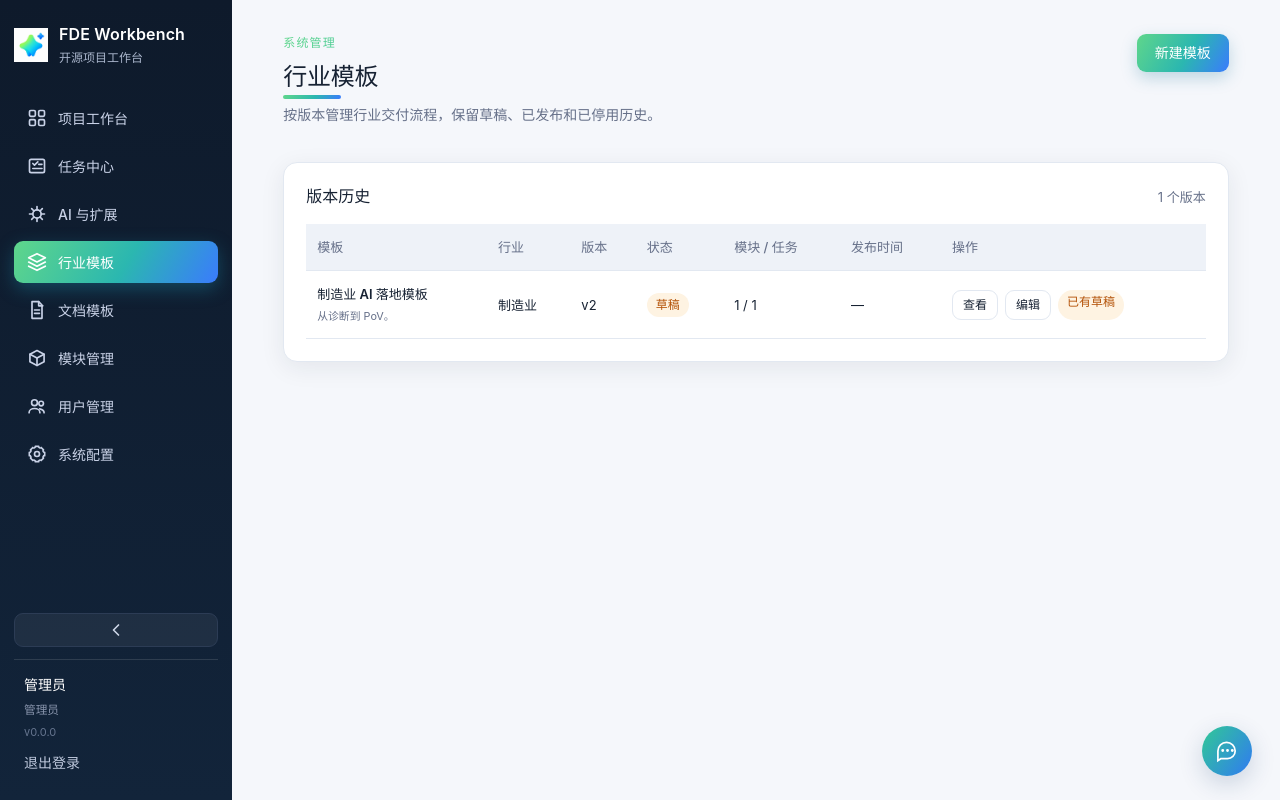
Test: 行业模板版本管理 › 发布失败时在发布操作旁显示服务校验并保留草稿
Click the button with aria-label "编辑 v2": click(1028, 305) [1005, 290, 1051, 320]
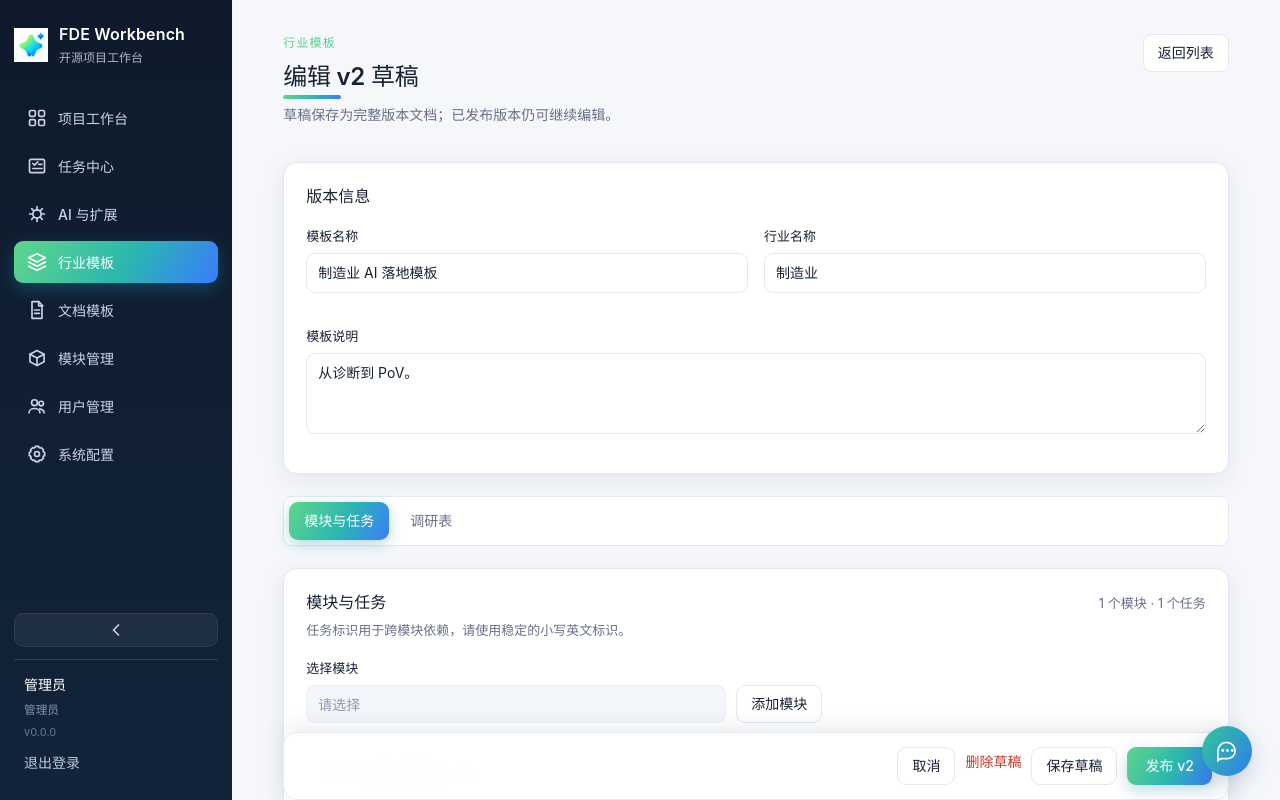
Replace the text in the text box labelled "模板说明" with "发布前的本地草稿": (756, 394) [306, 353, 1206, 434]
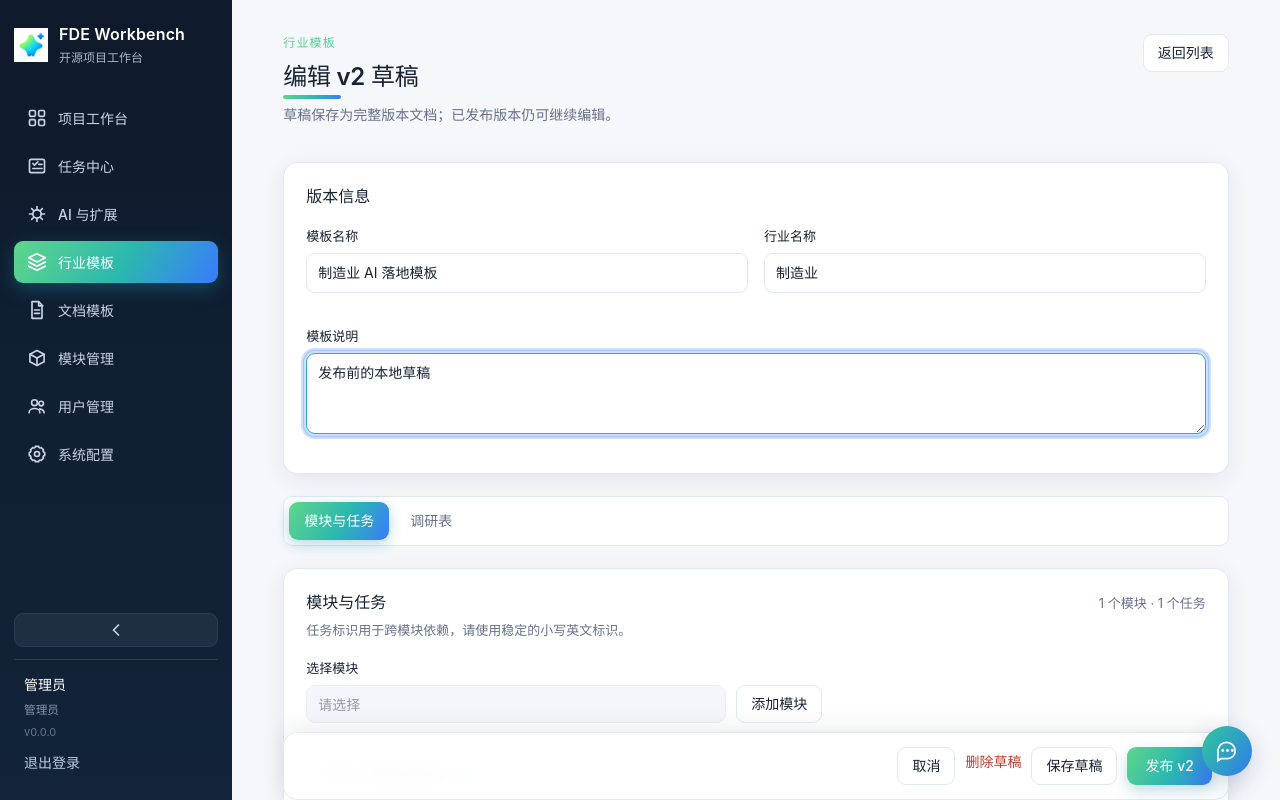
Click the button "发布 v2": click(1170, 766) [1127, 747, 1212, 785]
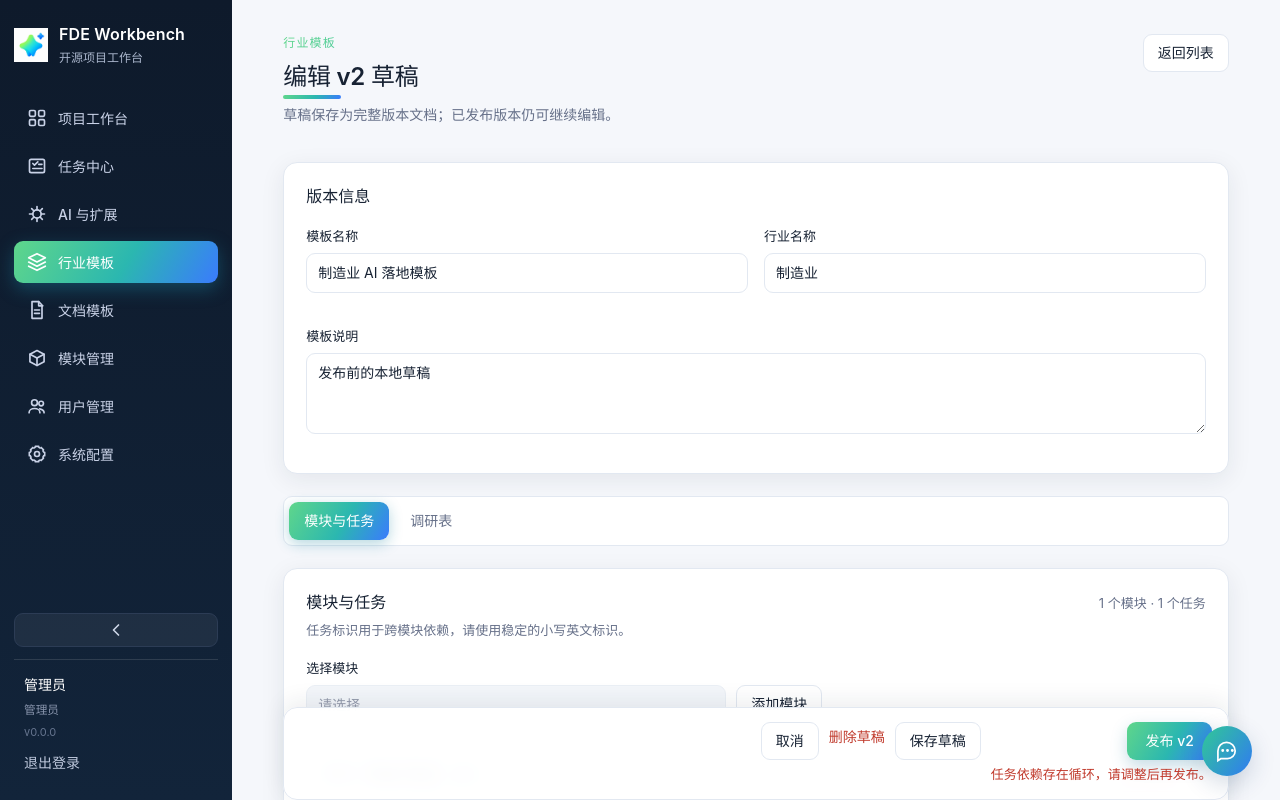
Now the message shows "任务依赖存在循环", box [991, 766, 1212, 782]
